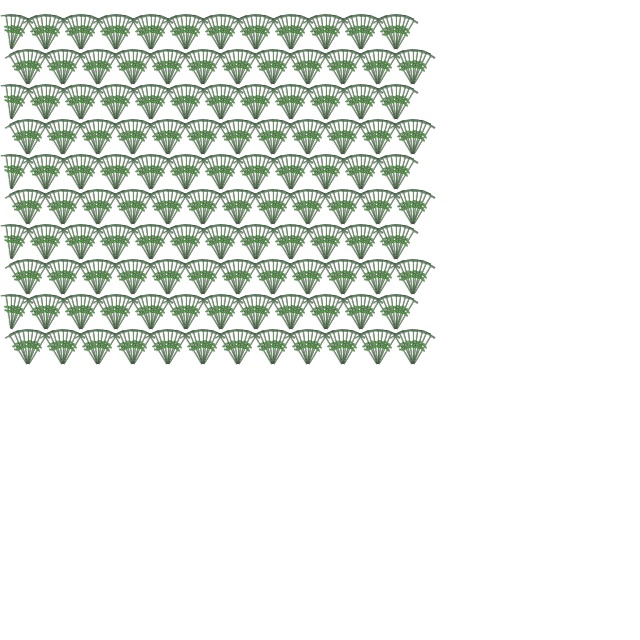fan: (6, 16, 35, 53), (22, 16, 51, 53), (41, 16, 70, 53), (57, 16, 86, 53), (76, 16, 105, 53), (92, 16, 121, 53), (111, 16, 140, 53), (127, 16, 156, 53), (146, 16, 175, 53), (162, 16, 191, 53), (181, 16, 210, 53), (197, 16, 226, 53), (216, 16, 245, 53), (232, 16, 261, 53), (251, 16, 280, 53), (267, 16, 296, 53), (286, 16, 315, 53), (302, 16, 331, 53), (321, 16, 350, 53), (337, 16, 366, 53), (356, 16, 385, 53), (372, 16, 401, 53), (391, 16, 420, 53), (4, 51, 33, 88), (23, 51, 52, 88), (39, 51, 68, 88), (58, 51, 87, 88), (74, 51, 103, 88), (93, 51, 122, 88), (109, 51, 138, 88), (128, 51, 157, 88), (144, 51, 173, 88), (163, 51, 192, 88), (179, 51, 208, 88), (198, 51, 227, 88), (214, 51, 243, 88), (233, 51, 262, 88), (249, 51, 278, 88), (268, 51, 297, 88), (284, 51, 313, 88), (303, 51, 332, 88), (319, 51, 348, 88), (338, 51, 367, 88), (354, 51, 383, 88), (373, 51, 402, 88), (389, 51, 418, 88), (408, 51, 437, 88), (6, 86, 35, 123), (22, 86, 51, 123), (41, 86, 70, 123), (57, 86, 86, 123), (76, 86, 105, 123), (92, 86, 121, 123), (111, 86, 140, 123), (127, 86, 156, 123), (146, 86, 175, 123), (162, 86, 191, 123), (181, 86, 210, 123), (197, 86, 226, 123), (216, 86, 245, 123), (232, 86, 261, 123), (251, 86, 280, 123), (267, 86, 296, 123), (286, 86, 315, 123), (302, 86, 331, 123), (321, 86, 350, 123), (337, 86, 366, 123), (356, 86, 385, 123), (372, 86, 401, 123), (391, 86, 420, 123), (4, 121, 33, 158), (23, 121, 52, 158), (39, 121, 68, 158), (58, 121, 87, 158), (74, 121, 103, 158), (93, 121, 122, 158), (109, 121, 138, 158), (128, 121, 157, 158), (144, 121, 173, 158), (163, 121, 192, 158), (179, 121, 208, 158), (198, 121, 227, 158), (214, 121, 243, 158), (233, 121, 262, 158), (249, 121, 278, 158), (268, 121, 297, 158), (284, 121, 313, 158), (303, 121, 332, 158), (319, 121, 348, 158), (338, 121, 367, 158), (354, 121, 383, 158), (373, 121, 402, 158), (389, 121, 418, 158), (408, 121, 437, 158), (6, 156, 35, 193), (22, 156, 51, 193), (41, 156, 70, 193), (57, 156, 86, 193), (76, 156, 105, 193), (92, 156, 121, 193), (111, 156, 140, 193), (127, 156, 156, 193), (146, 156, 175, 193), (162, 156, 191, 193), (181, 156, 210, 193), (197, 156, 226, 193), (216, 156, 245, 193), (232, 156, 261, 193), (251, 156, 280, 193), (267, 156, 296, 193), (286, 156, 315, 193), (302, 156, 331, 193), (321, 156, 350, 193), (337, 156, 366, 193), (356, 156, 385, 193), (372, 156, 401, 193), (391, 156, 420, 193), (4, 191, 33, 228), (23, 191, 52, 228), (39, 191, 68, 228), (58, 191, 87, 228), (74, 191, 103, 228), (93, 191, 122, 228), (109, 191, 138, 228), (128, 191, 157, 228), (144, 191, 173, 228), (163, 191, 192, 228), (179, 191, 208, 228), (198, 191, 227, 228), (214, 191, 243, 228), (233, 191, 262, 228), (249, 191, 278, 228), (268, 191, 297, 228), (284, 191, 313, 228), (303, 191, 332, 228), (319, 191, 348, 228), (338, 191, 367, 228), (354, 191, 383, 228), (373, 191, 402, 228), (389, 191, 418, 228), (408, 191, 437, 228), (6, 226, 35, 263), (22, 226, 51, 263), (41, 226, 70, 263), (57, 226, 86, 263), (76, 226, 105, 263), (92, 226, 121, 263), (111, 226, 140, 263), (127, 226, 156, 263), (146, 226, 175, 263), (162, 226, 191, 263), (181, 226, 210, 263), (197, 226, 226, 263), (216, 226, 245, 263), (232, 226, 261, 263), (251, 226, 280, 263), (267, 226, 296, 263), (286, 226, 315, 263), (302, 226, 331, 263), (321, 226, 350, 263), (337, 226, 366, 263), (356, 226, 385, 263), (372, 226, 401, 263), (391, 226, 420, 263), (4, 261, 33, 298), (23, 261, 52, 298), (39, 261, 68, 298), (58, 261, 87, 298), (74, 261, 103, 298), (93, 261, 122, 298), (109, 261, 138, 298), (128, 261, 157, 298), (144, 261, 173, 298), (163, 261, 192, 298), (179, 261, 208, 298), (198, 261, 227, 298), (214, 261, 243, 298), (233, 261, 262, 298), (249, 261, 278, 298), (268, 261, 297, 298), (284, 261, 313, 298), (303, 261, 332, 298), (319, 261, 348, 298), (338, 261, 367, 298), (354, 261, 383, 298), (373, 261, 402, 298), (389, 261, 418, 298), (408, 261, 437, 298), (6, 296, 35, 333), (22, 296, 51, 333), (41, 296, 70, 333), (57, 296, 86, 333), (76, 296, 105, 333), (92, 296, 121, 333), (111, 296, 140, 333), (127, 296, 156, 333), (146, 296, 175, 333), (162, 296, 191, 333), (181, 296, 210, 333), (197, 296, 226, 333), (216, 296, 245, 333), (232, 296, 261, 333), (251, 296, 280, 333), (267, 296, 296, 333), (286, 296, 315, 333), (302, 296, 331, 333), (321, 296, 350, 333), (337, 296, 366, 333), (356, 296, 385, 333), (372, 296, 401, 333), (391, 296, 420, 333), (4, 331, 33, 368), (23, 331, 52, 368), (39, 331, 68, 368), (58, 331, 87, 368), (74, 331, 103, 368), (93, 331, 122, 368), (109, 331, 138, 368), (128, 331, 157, 368), (144, 331, 173, 368), (163, 331, 192, 368), (179, 331, 208, 368), (198, 331, 227, 368), (214, 331, 243, 368), (233, 331, 262, 368), (249, 331, 278, 368), (268, 331, 297, 368), (284, 331, 313, 368), (303, 331, 332, 368), (319, 331, 348, 368), (338, 331, 367, 368), (354, 331, 383, 368), (373, 331, 402, 368), (389, 331, 418, 368), (408, 331, 437, 368), (5, 15, 31, 52), (26, 15, 52, 52), (40, 15, 66, 52), (61, 15, 87, 52), (75, 15, 101, 52), (96, 15, 122, 52), (110, 15, 136, 52), (131, 15, 157, 52), (145, 15, 171, 52), (166, 15, 192, 52), (180, 15, 206, 52), (201, 15, 227, 52), (215, 15, 241, 52), (236, 15, 262, 52), (250, 15, 276, 52), (271, 15, 297, 52), (285, 15, 311, 52), (306, 15, 332, 52), (320, 15, 346, 52), (341, 15, 367, 52), (355, 15, 381, 52), (376, 15, 402, 52), (390, 15, 416, 52), (8, 50, 34, 87), (22, 50, 48, 87), (43, 50, 69, 87), (57, 50, 83, 87), (78, 50, 104, 87), (92, 50, 118, 87), (113, 50, 139, 87), (127, 50, 153, 87), (148, 50, 174, 87), (162, 50, 188, 87), (183, 50, 209, 87), (197, 50, 223, 87), (218, 50, 244, 87), (232, 50, 258, 87), (253, 50, 279, 87), (267, 50, 293, 87), (288, 50, 314, 87), (302, 50, 328, 87), (323, 50, 349, 87), (337, 50, 363, 87), (358, 50, 384, 87), (372, 50, 398, 87), (393, 50, 419, 87), (407, 50, 433, 87), (5, 85, 31, 122), (26, 85, 52, 122), (40, 85, 66, 122), (61, 85, 87, 122), (75, 85, 101, 122), (96, 85, 122, 122), (110, 85, 136, 122), (131, 85, 157, 122), (145, 85, 171, 122), (166, 85, 192, 122), (180, 85, 206, 122), (201, 85, 227, 122), (215, 85, 241, 122), (236, 85, 262, 122), (250, 85, 276, 122), (271, 85, 297, 122), (285, 85, 311, 122), (306, 85, 332, 122), (320, 85, 346, 122), (341, 85, 367, 122), (355, 85, 381, 122), (376, 85, 402, 122), (390, 85, 416, 122), (8, 120, 34, 157), (22, 120, 48, 157), (43, 120, 69, 157), (57, 120, 83, 157), (78, 120, 104, 157), (92, 120, 118, 157), (113, 120, 139, 157), (127, 120, 153, 157), (148, 120, 174, 157), (162, 120, 188, 157), (183, 120, 209, 157), (197, 120, 223, 157), (218, 120, 244, 157), (232, 120, 258, 157), (253, 120, 279, 157), (267, 120, 293, 157), (288, 120, 314, 157), (302, 120, 328, 157), (323, 120, 349, 157), (337, 120, 363, 157), (358, 120, 384, 157), (372, 120, 398, 157), (393, 120, 419, 157), (407, 120, 433, 157), (5, 155, 31, 192), (26, 155, 52, 192), (40, 155, 66, 192), (61, 155, 87, 192), (75, 155, 101, 192), (96, 155, 122, 192), (110, 155, 136, 192), (131, 155, 157, 192), (145, 155, 171, 192), (166, 155, 192, 192), (180, 155, 206, 192), (201, 155, 227, 192), (215, 155, 241, 192), (236, 155, 262, 192), (250, 155, 276, 192), (271, 155, 297, 192), (285, 155, 311, 192), (306, 155, 332, 192), (320, 155, 346, 192), (341, 155, 367, 192), (355, 155, 381, 192), (376, 155, 402, 192), (390, 155, 416, 192), (8, 190, 34, 227), (22, 190, 48, 227), (43, 190, 69, 227), (57, 190, 83, 227), (78, 190, 104, 227), (92, 190, 118, 227), (113, 190, 139, 227), (127, 190, 153, 227), (148, 190, 174, 227), (162, 190, 188, 227), (183, 190, 209, 227), (197, 190, 223, 227), (218, 190, 244, 227), (232, 190, 258, 227), (253, 190, 279, 227), (267, 190, 293, 227), (288, 190, 314, 227), (302, 190, 328, 227), (323, 190, 349, 227), (337, 190, 363, 227), (358, 190, 384, 227), (372, 190, 398, 227), (393, 190, 419, 227), (407, 190, 433, 227), (5, 225, 31, 262), (26, 225, 52, 262), (40, 225, 66, 262), (61, 225, 87, 262), (75, 225, 101, 262), (96, 225, 122, 262), (110, 225, 136, 262), (131, 225, 157, 262), (145, 225, 171, 262), (166, 225, 192, 262), (180, 225, 206, 262), (201, 225, 227, 262), (215, 225, 241, 262), (236, 225, 262, 262), (250, 225, 276, 262), (271, 225, 297, 262), (285, 225, 311, 262), (306, 225, 332, 262), (320, 225, 346, 262), (341, 225, 367, 262), (355, 225, 381, 262), (376, 225, 402, 262), (390, 225, 416, 262), (8, 260, 34, 297), (22, 260, 48, 297), (43, 260, 69, 297), (57, 260, 83, 297), (78, 260, 104, 297), (92, 260, 118, 297), (113, 260, 139, 297), (127, 260, 153, 297), (148, 260, 174, 297), (162, 260, 188, 297), (183, 260, 209, 297), (197, 260, 223, 297), (218, 260, 244, 297), (232, 260, 258, 297), (253, 260, 279, 297), (267, 260, 293, 297), (288, 260, 314, 297), (302, 260, 328, 297), (323, 260, 349, 297), (337, 260, 363, 297), (358, 260, 384, 297), (372, 260, 398, 297), (393, 260, 419, 297), (407, 260, 433, 297), (5, 295, 31, 332), (26, 295, 52, 332), (40, 295, 66, 332), (61, 295, 87, 332), (75, 295, 101, 332), (96, 295, 122, 332), (110, 295, 136, 332), (131, 295, 157, 332), (145, 295, 171, 332), (166, 295, 192, 332), (180, 295, 206, 332), (201, 295, 227, 332), (215, 295, 241, 332), (236, 295, 262, 332), (250, 295, 276, 332), (271, 295, 297, 332), (285, 295, 311, 332), (306, 295, 332, 332), (320, 295, 346, 332), (341, 295, 367, 332), (355, 295, 381, 332), (376, 295, 402, 332), (390, 295, 416, 332), (8, 330, 34, 367), (22, 330, 48, 367), (43, 330, 69, 367), (57, 330, 83, 367), (78, 330, 104, 367), (92, 330, 118, 367), (113, 330, 139, 367), (127, 330, 153, 367), (148, 330, 174, 367), (162, 330, 188, 367), (183, 330, 209, 367), (197, 330, 223, 367), (218, 330, 244, 367), (232, 330, 258, 367), (253, 330, 279, 367), (267, 330, 293, 367), (288, 330, 314, 367), (302, 330, 328, 367), (323, 330, 349, 367), (337, 330, 363, 367), (358, 330, 384, 367), (372, 330, 398, 367), (393, 330, 419, 367), (407, 330, 433, 367), (5, 14, 26, 52), (31, 14, 52, 52), (40, 14, 61, 52), (66, 14, 87, 52), (75, 14, 96, 52), (101, 14, 122, 52), (110, 14, 131, 52), (136, 14, 157, 52), (145, 14, 166, 52), (171, 14, 192, 52), (180, 14, 201, 52), (206, 14, 227, 52), (215, 14, 236, 52), (241, 14, 262, 52), (250, 14, 271, 52), (276, 14, 297, 52), (285, 14, 306, 52), (311, 14, 332, 52), (320, 14, 341, 52), (346, 14, 367, 52), (355, 14, 376, 52), (381, 14, 402, 52), (390, 14, 411, 52), (13, 49, 34, 87), (22, 49, 43, 87), (48, 49, 69, 87), (57, 49, 78, 87), (83, 49, 104, 87), (92, 49, 113, 87), (118, 49, 139, 87), (127, 49, 148, 87), (153, 49, 174, 87), (162, 49, 183, 87), (188, 49, 209, 87), (197, 49, 218, 87), (223, 49, 244, 87), (232, 49, 253, 87), (258, 49, 279, 87), (267, 49, 288, 87), (293, 49, 314, 87), (302, 49, 323, 87), (328, 49, 349, 87), (337, 49, 358, 87), (363, 49, 384, 87), (372, 49, 393, 87), (398, 49, 419, 87), (407, 49, 428, 87), (5, 84, 26, 122), (31, 84, 52, 122), (40, 84, 61, 122), (66, 84, 87, 122), (75, 84, 96, 122), (101, 84, 122, 122), (110, 84, 131, 122), (136, 84, 157, 122), (145, 84, 166, 122), (171, 84, 192, 122), (180, 84, 201, 122), (206, 84, 227, 122), (215, 84, 236, 122), (241, 84, 262, 122), (250, 84, 271, 122), (276, 84, 297, 122), (285, 84, 306, 122), (311, 84, 332, 122), (320, 84, 341, 122), (346, 84, 367, 122), (355, 84, 376, 122), (381, 84, 402, 122), (390, 84, 411, 122), (13, 119, 34, 157), (22, 119, 43, 157), (48, 119, 69, 157), (57, 119, 78, 157), (83, 119, 104, 157), (92, 119, 113, 157), (118, 119, 139, 157), (127, 119, 148, 157), (153, 119, 174, 157), (162, 119, 183, 157), (188, 119, 209, 157), (197, 119, 218, 157), (223, 119, 244, 157), (232, 119, 253, 157), (258, 119, 279, 157), (267, 119, 288, 157), (293, 119, 314, 157), (302, 119, 323, 157), (328, 119, 349, 157), (337, 119, 358, 157), (363, 119, 384, 157), (372, 119, 393, 157), (398, 119, 419, 157), (407, 119, 428, 157), (5, 154, 26, 192), (31, 154, 52, 192), (40, 154, 61, 192), (66, 154, 87, 192), (75, 154, 96, 192), (101, 154, 122, 192), (110, 154, 131, 192), (136, 154, 157, 192), (145, 154, 166, 192), (171, 154, 192, 192), (180, 154, 201, 192), (206, 154, 227, 192), (215, 154, 236, 192), (241, 154, 262, 192), (250, 154, 271, 192), (276, 154, 297, 192), (285, 154, 306, 192), (311, 154, 332, 192), (320, 154, 341, 192), (346, 154, 367, 192), (355, 154, 376, 192), (381, 154, 402, 192), (390, 154, 411, 192), (13, 189, 34, 227), (22, 189, 43, 227), (48, 189, 69, 227), (57, 189, 78, 227), (83, 189, 104, 227), (92, 189, 113, 227), (118, 189, 139, 227), (127, 189, 148, 227), (153, 189, 174, 227), (162, 189, 183, 227), (188, 189, 209, 227), (197, 189, 218, 227), (223, 189, 244, 227), (232, 189, 253, 227), (258, 189, 279, 227), (267, 189, 288, 227), (293, 189, 314, 227), (302, 189, 323, 227), (328, 189, 349, 227), (337, 189, 358, 227), (363, 189, 384, 227), (372, 189, 393, 227), (398, 189, 419, 227), (407, 189, 428, 227), (5, 224, 26, 262), (31, 224, 52, 262), (40, 224, 61, 262), (66, 224, 87, 262), (75, 224, 96, 262), (101, 224, 122, 262), (110, 224, 131, 262), (136, 224, 157, 262), (145, 224, 166, 262), (171, 224, 192, 262), (180, 224, 201, 262), (206, 224, 227, 262), (215, 224, 236, 262), (241, 224, 262, 262), (250, 224, 271, 262), (276, 224, 297, 262), (285, 224, 306, 262), (311, 224, 332, 262), (320, 224, 341, 262), (346, 224, 367, 262), (355, 224, 376, 262), (381, 224, 402, 262), (390, 224, 411, 262), (13, 259, 34, 297), (22, 259, 43, 297), (48, 259, 69, 297), (57, 259, 78, 297), (83, 259, 104, 297), (92, 259, 113, 297), (118, 259, 139, 297), (127, 259, 148, 297), (153, 259, 174, 297), (162, 259, 183, 297), (188, 259, 209, 297), (197, 259, 218, 297), (223, 259, 244, 297), (232, 259, 253, 297), (258, 259, 279, 297), (267, 259, 288, 297), (293, 259, 314, 297), (302, 259, 323, 297), (328, 259, 349, 297), (337, 259, 358, 297), (363, 259, 384, 297), (372, 259, 393, 297), (398, 259, 419, 297), (407, 259, 428, 297), (5, 294, 26, 332), (31, 294, 52, 332), (40, 294, 61, 332), (66, 294, 87, 332), (75, 294, 96, 332), (101, 294, 122, 332), (110, 294, 131, 332), (136, 294, 157, 332), (145, 294, 166, 332), (171, 294, 192, 332), (180, 294, 201, 332), (206, 294, 227, 332), (215, 294, 236, 332), (241, 294, 262, 332), (250, 294, 271, 332), (276, 294, 297, 332), (285, 294, 306, 332), (311, 294, 332, 332), (320, 294, 341, 332), (346, 294, 367, 332), (355, 294, 376, 332), (381, 294, 402, 332), (390, 294, 411, 332), (13, 329, 34, 367), (22, 329, 43, 367), (48, 329, 69, 367), (57, 329, 78, 367), (83, 329, 104, 367), (92, 329, 113, 367), (118, 329, 139, 367), (127, 329, 148, 367), (153, 329, 174, 367), (162, 329, 183, 367), (188, 329, 209, 367), (197, 329, 218, 367), (223, 329, 244, 367), (232, 329, 253, 367), (258, 329, 279, 367), (267, 329, 288, 367), (293, 329, 314, 367), (302, 329, 323, 367), (328, 329, 349, 367), (337, 329, 358, 367), (363, 329, 384, 367), (372, 329, 393, 367), (398, 329, 419, 367), (407, 329, 428, 367), (0, 14, 17, 51), (5, 14, 22, 51), (35, 14, 52, 51), (40, 14, 57, 51), (70, 14, 87, 51), (75, 14, 92, 51), (105, 14, 122, 51), (110, 14, 127, 51), (140, 14, 157, 51), (145, 14, 162, 51), (175, 14, 192, 51), (180, 14, 197, 51), (210, 14, 227, 51), (215, 14, 232, 51), (245, 14, 262, 51), (250, 14, 267, 51), (280, 14, 297, 51), (285, 14, 302, 51), (315, 14, 332, 51), (320, 14, 337, 51), (350, 14, 367, 51), (355, 14, 372, 51), (385, 14, 402, 51), (390, 14, 407, 51), (17, 49, 34, 86), (22, 49, 39, 86), (52, 49, 69, 86), (57, 49, 74, 86), (87, 49, 104, 86), (92, 49, 109, 86), (122, 49, 139, 86), (127, 49, 144, 86), (157, 49, 174, 86), (162, 49, 179, 86), (192, 49, 209, 86), (197, 49, 214, 86), (227, 49, 244, 86), (232, 49, 249, 86), (262, 49, 279, 86), (267, 49, 284, 86), (297, 49, 314, 86), (302, 49, 319, 86), (332, 49, 349, 86), (337, 49, 354, 86), (367, 49, 384, 86), (372, 49, 389, 86), (402, 49, 419, 86), (407, 49, 424, 86), (0, 84, 17, 121), (5, 84, 22, 121), (35, 84, 52, 121), (40, 84, 57, 121), (70, 84, 87, 121), (75, 84, 92, 121), (105, 84, 122, 121), (110, 84, 127, 121), (140, 84, 157, 121), (145, 84, 162, 121), (175, 84, 192, 121), (180, 84, 197, 121), (210, 84, 227, 121), (215, 84, 232, 121), (245, 84, 262, 121), (250, 84, 267, 121), (280, 84, 297, 121), (285, 84, 302, 121), (315, 84, 332, 121), (320, 84, 337, 121), (350, 84, 367, 121), (355, 84, 372, 121), (385, 84, 402, 121), (390, 84, 407, 121), (17, 119, 34, 156), (22, 119, 39, 156), (52, 119, 69, 156), (57, 119, 74, 156), (87, 119, 104, 156), (92, 119, 109, 156), (122, 119, 139, 156), (127, 119, 144, 156), (157, 119, 174, 156), (162, 119, 179, 156), (192, 119, 209, 156), (197, 119, 214, 156), (227, 119, 244, 156), (232, 119, 249, 156), (262, 119, 279, 156), (267, 119, 284, 156), (297, 119, 314, 156), (302, 119, 319, 156), (332, 119, 349, 156), (337, 119, 354, 156), (367, 119, 384, 156), (372, 119, 389, 156), (402, 119, 419, 156), (407, 119, 424, 156), (0, 154, 17, 191), (5, 154, 22, 191), (35, 154, 52, 191), (40, 154, 57, 191), (70, 154, 87, 191), (75, 154, 92, 191), (105, 154, 122, 191), (110, 154, 127, 191), (140, 154, 157, 191), (145, 154, 162, 191), (175, 154, 192, 191), (180, 154, 197, 191), (210, 154, 227, 191), (215, 154, 232, 191), (245, 154, 262, 191), (250, 154, 267, 191), (280, 154, 297, 191), (285, 154, 302, 191), (315, 154, 332, 191), (320, 154, 337, 191), (350, 154, 367, 191), (355, 154, 372, 191), (385, 154, 402, 191), (390, 154, 407, 191), (17, 189, 34, 226), (22, 189, 39, 226), (52, 189, 69, 226), (57, 189, 74, 226), (87, 189, 104, 226), (92, 189, 109, 226), (122, 189, 139, 226), (127, 189, 144, 226), (157, 189, 174, 226), (162, 189, 179, 226), (192, 189, 209, 226), (197, 189, 214, 226), (227, 189, 244, 226), (232, 189, 249, 226), (262, 189, 279, 226), (267, 189, 284, 226), (297, 189, 314, 226), (302, 189, 319, 226), (332, 189, 349, 226), (337, 189, 354, 226), (367, 189, 384, 226), (372, 189, 389, 226), (402, 189, 419, 226), (407, 189, 424, 226), (0, 224, 17, 261), (5, 224, 22, 261), (35, 224, 52, 261), (40, 224, 57, 261), (70, 224, 87, 261), (75, 224, 92, 261), (105, 224, 122, 261), (110, 224, 127, 261), (140, 224, 157, 261), (145, 224, 162, 261), (175, 224, 192, 261), (180, 224, 197, 261), (210, 224, 227, 261), (215, 224, 232, 261), (245, 224, 262, 261), (250, 224, 267, 261), (280, 224, 297, 261), (285, 224, 302, 261), (315, 224, 332, 261), (320, 224, 337, 261), (350, 224, 367, 261), (355, 224, 372, 261), (385, 224, 402, 261), (390, 224, 407, 261), (17, 259, 34, 296), (22, 259, 39, 296), (52, 259, 69, 296), (57, 259, 74, 296), (87, 259, 104, 296), (92, 259, 109, 296), (122, 259, 139, 296), (127, 259, 144, 296), (157, 259, 174, 296), (162, 259, 179, 296), (192, 259, 209, 296), (197, 259, 214, 296), (227, 259, 244, 296), (232, 259, 249, 296), (262, 259, 279, 296), (267, 259, 284, 296), (297, 259, 314, 296), (302, 259, 319, 296), (332, 259, 349, 296), (337, 259, 354, 296), (367, 259, 384, 296), (372, 259, 389, 296), (402, 259, 419, 296), (407, 259, 424, 296), (0, 294, 17, 331), (5, 294, 22, 331), (35, 294, 52, 331), (40, 294, 57, 331), (70, 294, 87, 331), (75, 294, 92, 331), (105, 294, 122, 331), (110, 294, 127, 331), (140, 294, 157, 331), (145, 294, 162, 331), (175, 294, 192, 331), (180, 294, 197, 331), (210, 294, 227, 331), (215, 294, 232, 331), (245, 294, 262, 331), (250, 294, 267, 331), (280, 294, 297, 331), (285, 294, 302, 331), (315, 294, 332, 331), (320, 294, 337, 331), (350, 294, 367, 331), (355, 294, 372, 331), (385, 294, 402, 331), (390, 294, 407, 331), (17, 329, 34, 366), (22, 329, 39, 366), (52, 329, 69, 366), (57, 329, 74, 366), (87, 329, 104, 366), (92, 329, 109, 366), (122, 329, 139, 366), (127, 329, 144, 366), (157, 329, 174, 366), (162, 329, 179, 366), (192, 329, 209, 366), (197, 329, 214, 366), (227, 329, 244, 366), (232, 329, 249, 366), (262, 329, 279, 366), (267, 329, 284, 366), (297, 329, 314, 366), (302, 329, 319, 366), (332, 329, 349, 366), (337, 329, 354, 366), (367, 329, 384, 366), (372, 329, 389, 366), (402, 329, 419, 366), (407, 329, 424, 366), (5, 14, 17, 50), (40, 14, 52, 50), (75, 14, 87, 50), (110, 14, 122, 50), (145, 14, 157, 50), (180, 14, 192, 50), (215, 14, 227, 50), (250, 14, 262, 50), (285, 14, 297, 50), (320, 14, 332, 50), (355, 14, 367, 50), (390, 14, 402, 50), (22, 49, 34, 85), (57, 49, 69, 85), (92, 49, 104, 85), (127, 49, 139, 85), (162, 49, 174, 85), (197, 49, 209, 85), (232, 49, 244, 85), (267, 49, 279, 85), (302, 49, 314, 85), (337, 49, 349, 85), (372, 49, 384, 85), (407, 49, 419, 85), (5, 84, 17, 120), (40, 84, 52, 120), (75, 84, 87, 120), (110, 84, 122, 120), (145, 84, 157, 120), (180, 84, 192, 120), (215, 84, 227, 120), (250, 84, 262, 120), (285, 84, 297, 120), (320, 84, 332, 120), (355, 84, 367, 120), (390, 84, 402, 120), (22, 119, 34, 155), (57, 119, 69, 155), (92, 119, 104, 155), (127, 119, 139, 155), (162, 119, 174, 155), (197, 119, 209, 155), (232, 119, 244, 155), (267, 119, 279, 155), (302, 119, 314, 155), (337, 119, 349, 155), (372, 119, 384, 155), (407, 119, 419, 155), (5, 154, 17, 190), (40, 154, 52, 190), (75, 154, 87, 190), (110, 154, 122, 190), (145, 154, 157, 190), (180, 154, 192, 190), (215, 154, 227, 190), (250, 154, 262, 190), (285, 154, 297, 190), (320, 154, 332, 190), (355, 154, 367, 190), (390, 154, 402, 190), (22, 189, 34, 225), (57, 189, 69, 225), (92, 189, 104, 225), (127, 189, 139, 225), (162, 189, 174, 225), (197, 189, 209, 225), (232, 189, 244, 225), (267, 189, 279, 225), (302, 189, 314, 225), (337, 189, 349, 225), (372, 189, 384, 225), (407, 189, 419, 225), (5, 224, 17, 260), (40, 224, 52, 260), (75, 224, 87, 260), (110, 224, 122, 260), (145, 224, 157, 260), (180, 224, 192, 260), (215, 224, 227, 260), (250, 224, 262, 260), (285, 224, 297, 260), (320, 224, 332, 260), (355, 224, 367, 260), (390, 224, 402, 260), (22, 259, 34, 295), (57, 259, 69, 295), (92, 259, 104, 295), (127, 259, 139, 295), (162, 259, 174, 295), (197, 259, 209, 295), (232, 259, 244, 295), (267, 259, 279, 295), (302, 259, 314, 295), (337, 259, 349, 295), (372, 259, 384, 295), (407, 259, 419, 295), (5, 294, 17, 330), (40, 294, 52, 330), (75, 294, 87, 330), (110, 294, 122, 330), (145, 294, 157, 330), (180, 294, 192, 330), (215, 294, 227, 330), (250, 294, 262, 330), (285, 294, 297, 330), (320, 294, 332, 330), (355, 294, 367, 330), (390, 294, 402, 330), (22, 329, 34, 365), (57, 329, 69, 365), (92, 329, 104, 365), (127, 329, 139, 365), (162, 329, 174, 365), (197, 329, 209, 365), (232, 329, 244, 365), (267, 329, 279, 365), (302, 329, 314, 365), (337, 329, 349, 365), (372, 329, 384, 365), (407, 329, 419, 365)
